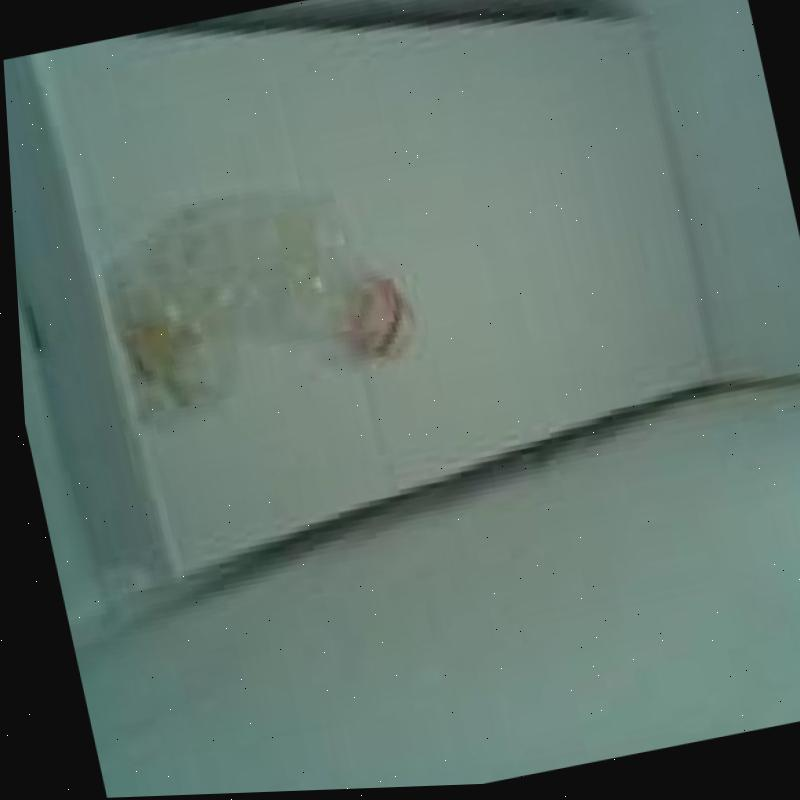botella: (85, 168, 427, 436)
